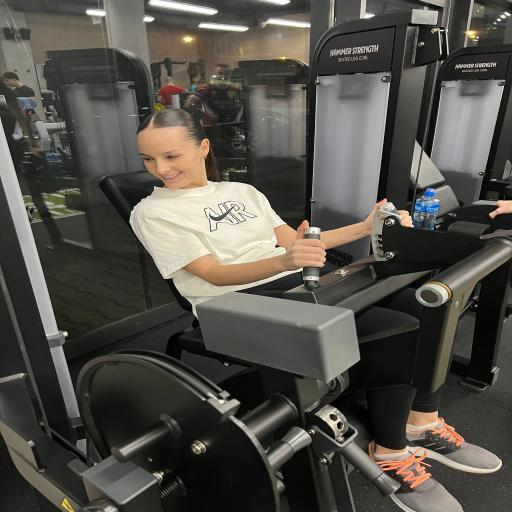marija: (138, 124, 208, 190)
